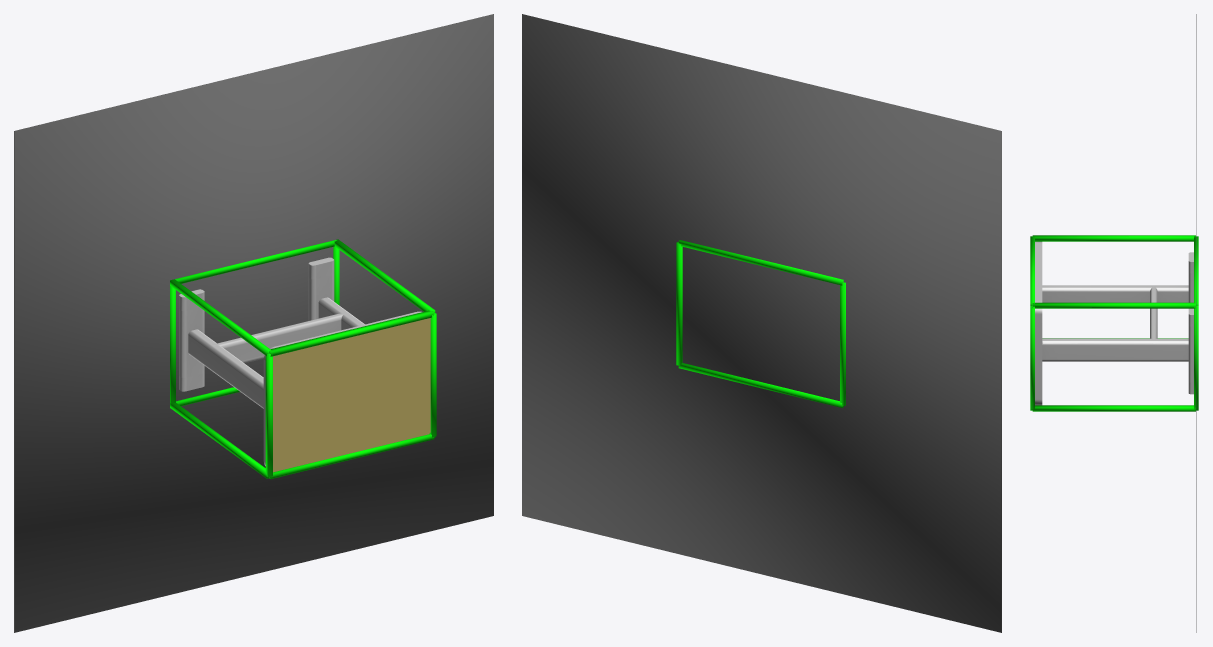
3 views of the same model, side by side, from view 1: azimuth 30°, elevation 25°; view 2: azimuth 150°, elevation 25°; view 3: azimuth 270°, elevation 25° (orthographic). The views are drawn at different scales.
Size of the model in its own units: 2 by 2 by 0.7219.
